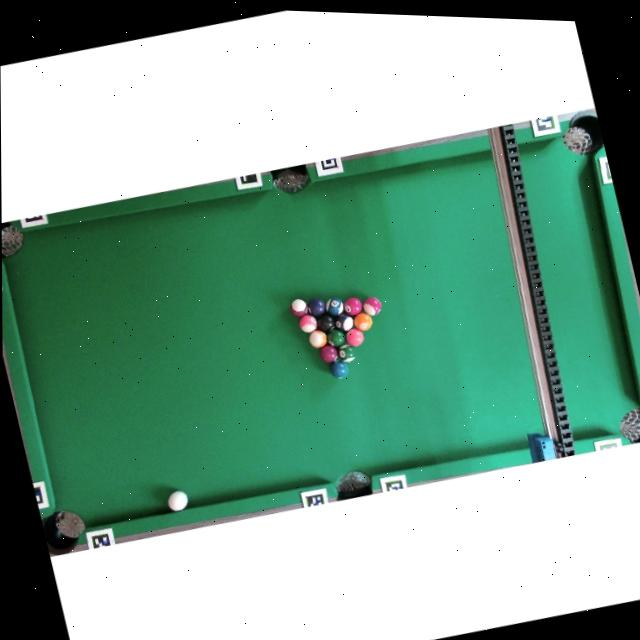cue ball: (164, 487, 191, 514)
other: (332, 310, 355, 334), (361, 294, 384, 317), (324, 294, 346, 318), (307, 327, 329, 350), (352, 310, 374, 333), (297, 312, 319, 335), (317, 342, 340, 364), (342, 295, 364, 317), (315, 312, 337, 334), (343, 326, 365, 348), (307, 295, 328, 318), (325, 326, 346, 348), (328, 358, 349, 380), (288, 296, 309, 318), (335, 343, 356, 364)
